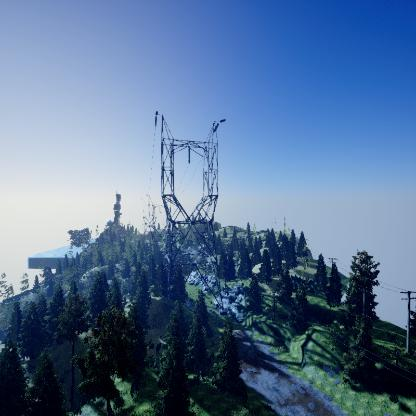tower: (152, 107, 228, 317)
